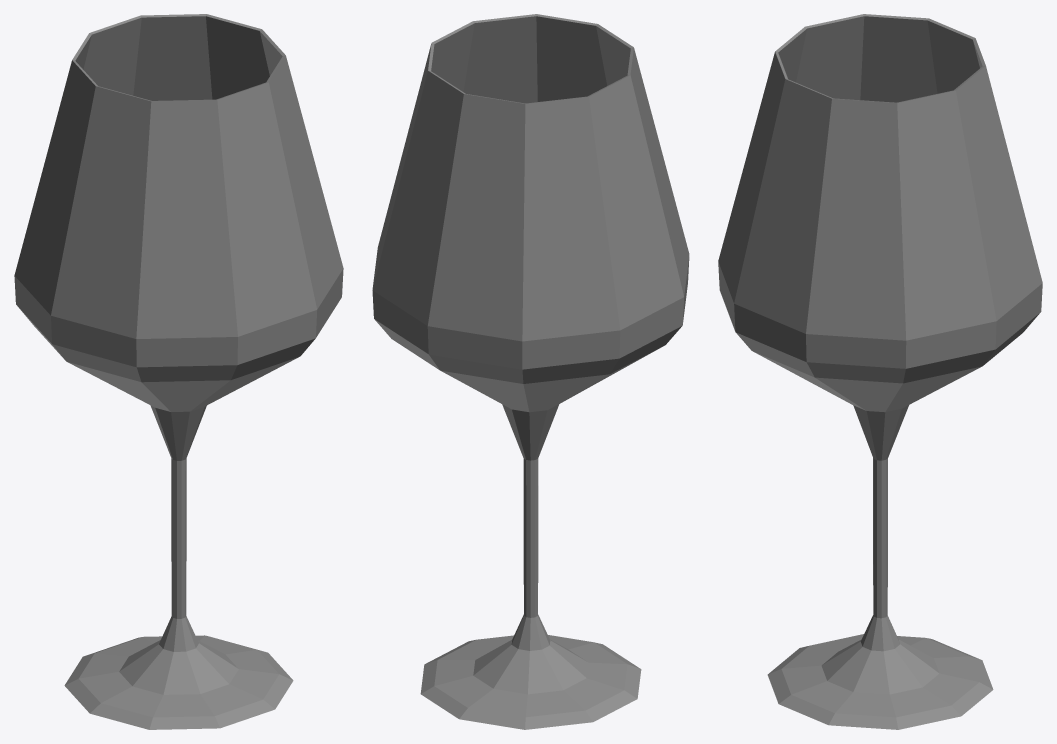
File: wine_glass.fbx
3 views of the same model, side by side, from view 1: azimuth 30°, elevation 25°; view 2: azimuth 150°, elevation 25°; view 3: azimuth 270°, elevation 25° (orthographic).
Visible parts, largest first — view 1: wine_glass; view 2: wine_glass; view 3: wine_glass.
Boxes of the visible parts, x1,y1,x2,y2 form: wine_glass: (14, 14, 343, 729); wine_glass: (372, 14, 689, 729); wine_glass: (718, 14, 1042, 729).
Bounding box in the file's own units: 0.0703 × 0.149 × 0.0703.
Materials: 1 (1 with a texture image).
